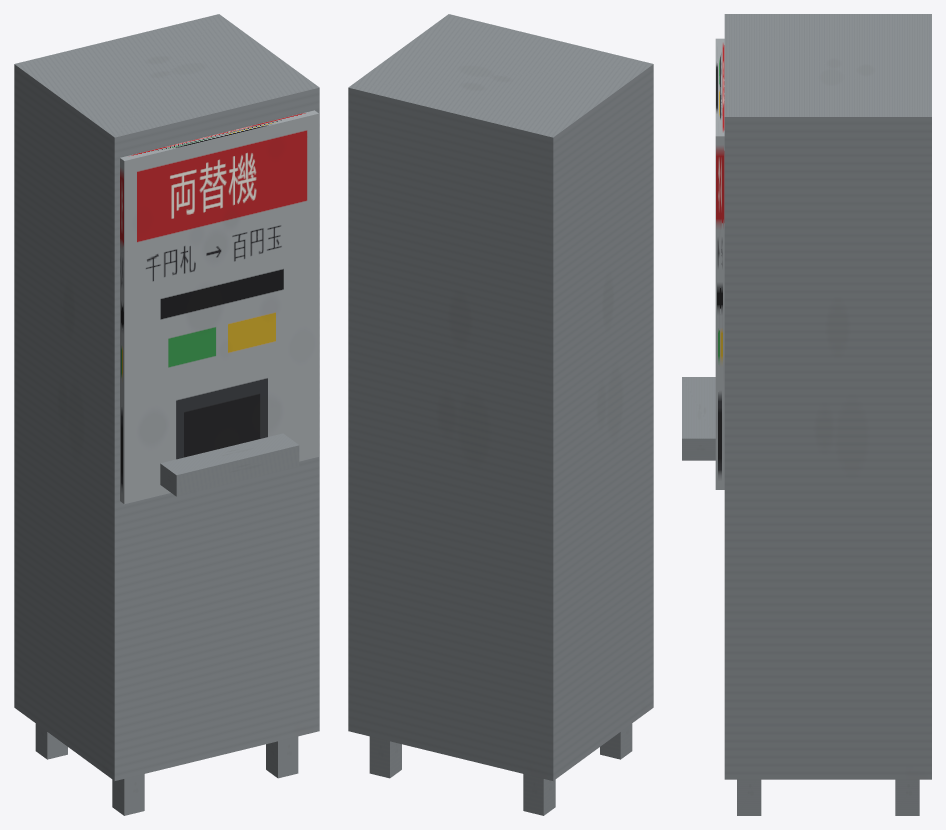
The model's file is coinchanger.glb.
3 views of the same model, side by side, from view 1: azimuth 30°, elevation 25°; view 2: azimuth 150°, elevation 25°; view 3: azimuth 270°, elevation 25° (orthographic). The views are drawn at different scales.
Visible parts, largest first — view 1: coinchanger; view 2: coinchanger; view 3: coinchanger.
Part boxes in pixels (box(x1,y1,x2,y2)): coinchanger: box(14, 14, 319, 815); coinchanger: box(348, 14, 653, 815); coinchanger: box(682, 14, 931, 815).
Bounding box in the file's own units: 0.4 × 1.28 × 0.41.
1 material, 1 textured.
